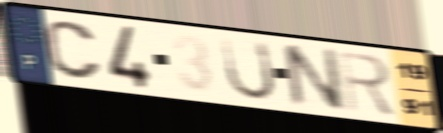3: (171, 33, 216, 96)
4: (107, 23, 156, 91)
C: (42, 18, 105, 82)
N: (278, 41, 348, 113)
R: (336, 48, 399, 118)
U: (219, 35, 279, 103)
